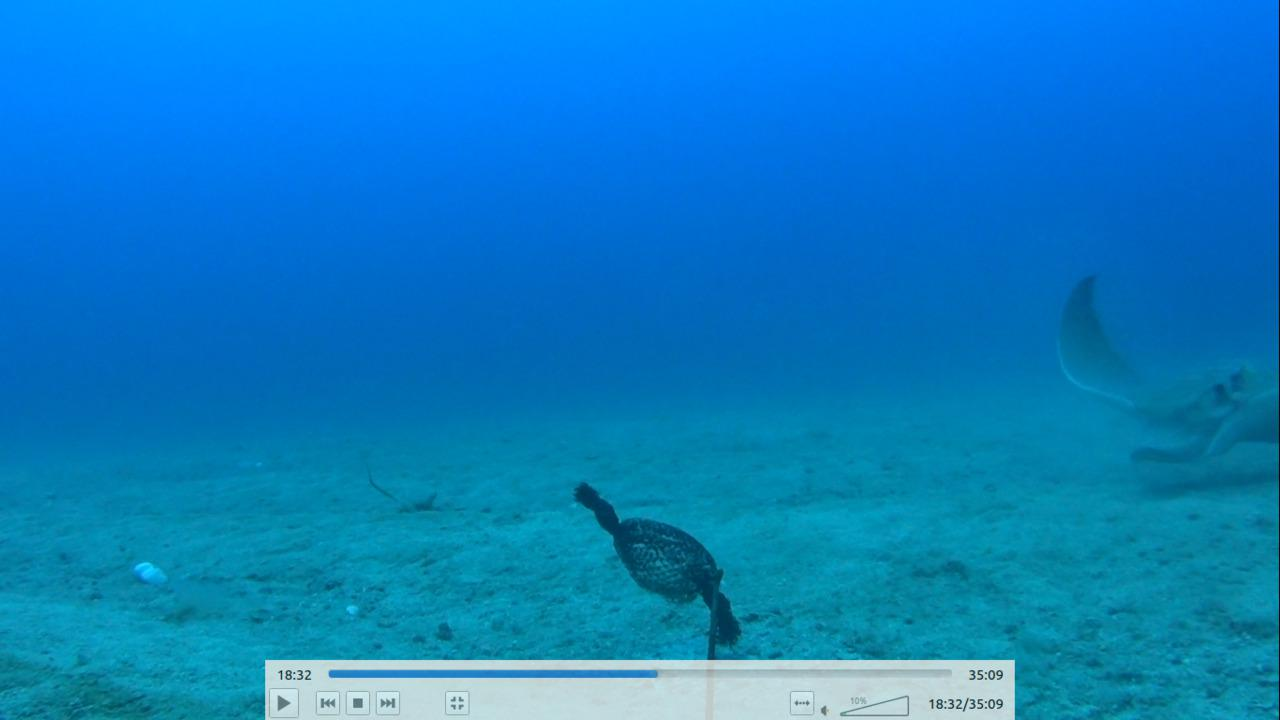myliobatis: (1036, 263, 1279, 476)
